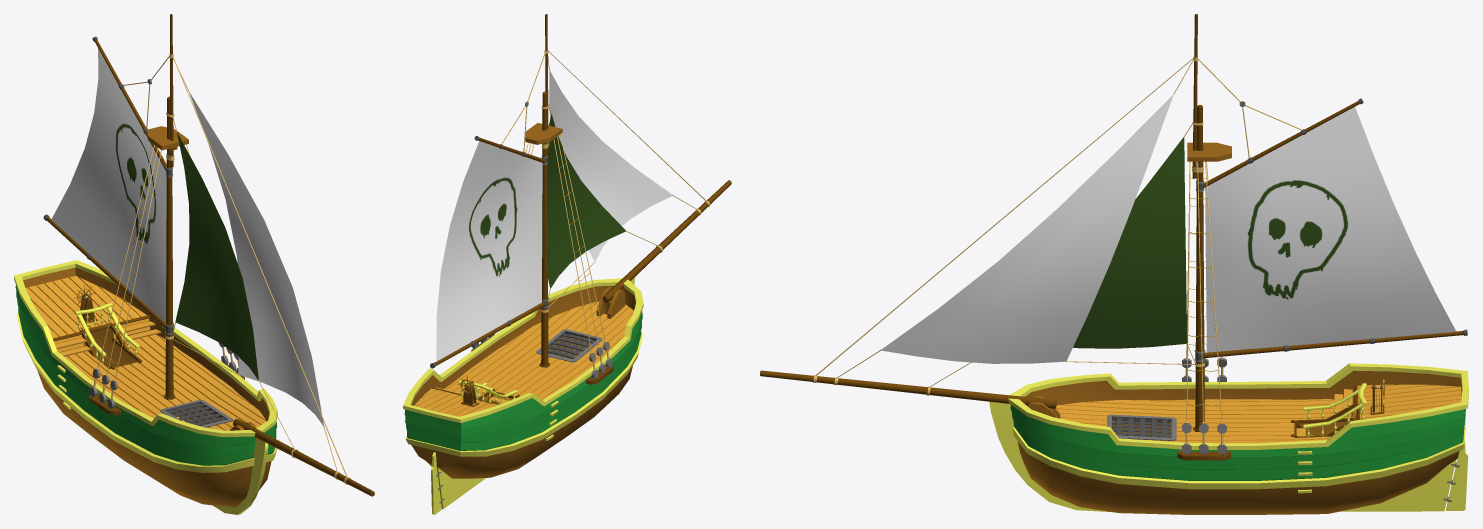
The model's file is ship.glb.
The picture shows the model from 3 angles, left to right: view 1: azimuth 30°, elevation 25°; view 2: azimuth 150°, elevation 25°; view 3: azimuth 270°, elevation 25°; orthographic projection. The views are drawn at different scales.
Visible parts, largest first — view 1: sails, Main hull, Decks; view 2: sails, Main hull, Decks; view 3: sails, Main hull, Decks.
Part boxes in pixels (left/top/right/bottom): sails: left=51, top=48, right=323, bottom=425; Main hull: left=14, top=14, right=374, bottom=514; Decks: left=25, top=276, right=266, bottom=430; sails: left=436, top=70, right=672, bottom=361; Main hull: left=403, top=14, right=731, bottom=514; Decks: left=414, top=301, right=633, bottom=416; sails: left=881, top=94, right=1456, bottom=363; Main hull: left=760, top=14, right=1468, bottom=514; Decks: left=1056, top=384, right=1461, bottom=443.
Size of the model in its own units: 553 by 1764 by 2280.
2 materials, 2 textured.
